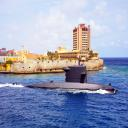submarine: (14, 60, 119, 95)
